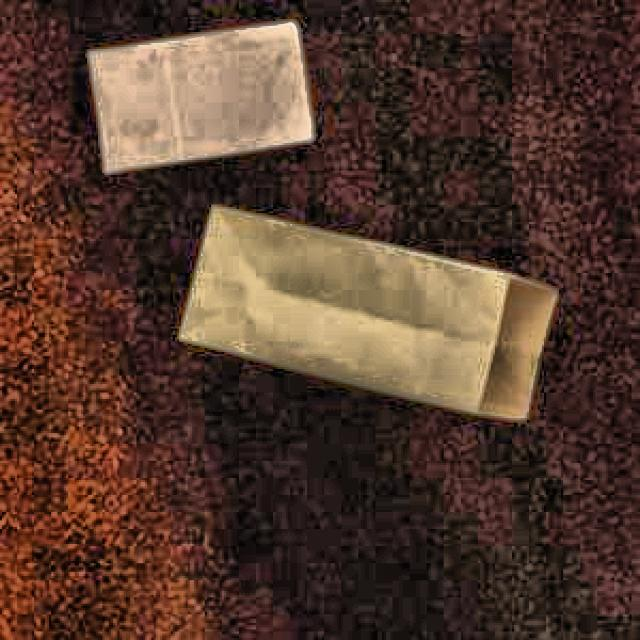Paper-bag: (162, 202, 575, 461), (79, 14, 345, 164)
